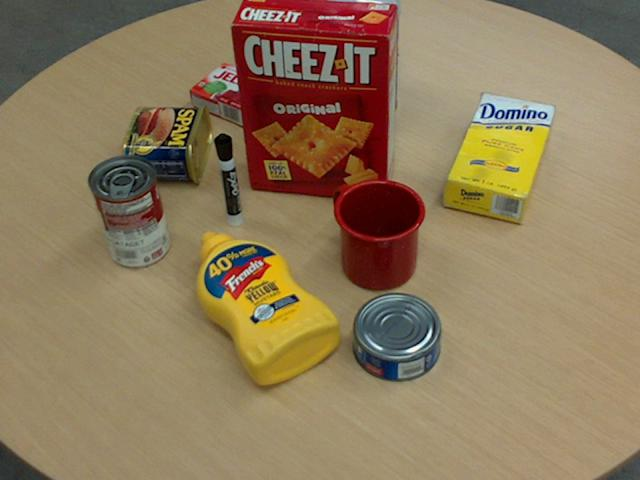cracker_box: (231, 0, 398, 198)
gelatin_box: (187, 61, 276, 125)
large_marker: (213, 133, 242, 227)
master_chef_can: (313, 0, 399, 127)
mug: (332, 177, 425, 289)
mustard_bottle: (195, 231, 340, 384)
potted_meat_can: (122, 104, 212, 182)
sugar_box: (444, 93, 554, 222)
tomato_soup_can: (86, 153, 168, 266)
tuna_fish_can: (353, 292, 442, 381)
